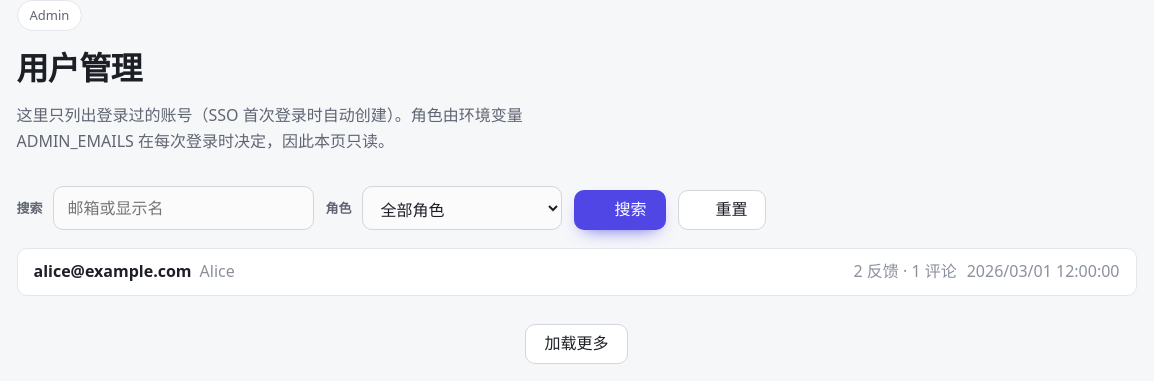
Test: AdminUsersView 用户目录 › 加载更多带上游标并去重
Step 1. Click the button "加载更多" → (576, 344), box 526,324 -> 628,364
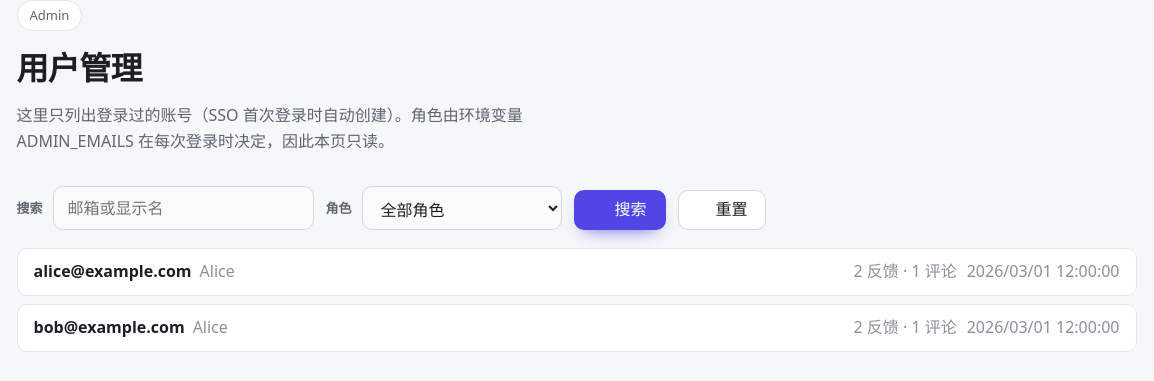
Check: the number of elements with class "admin-item" is 2, box 16,248 -> 1136,296; 16,304 -> 1136,352
